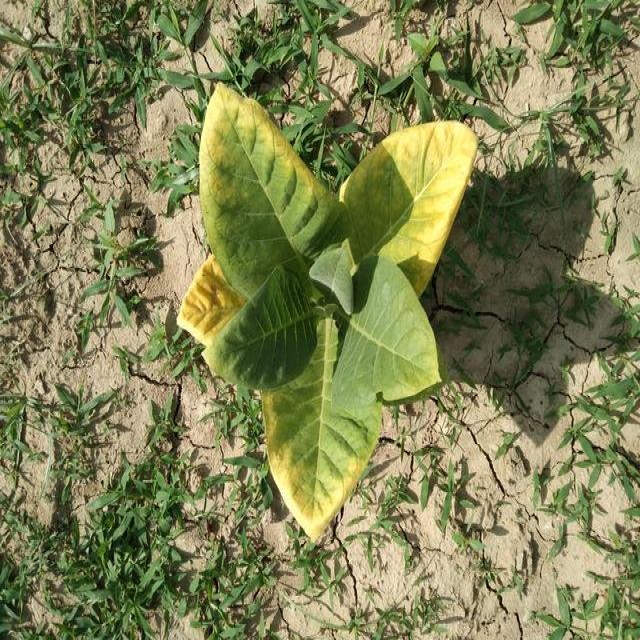crop: (175, 64, 487, 541)
